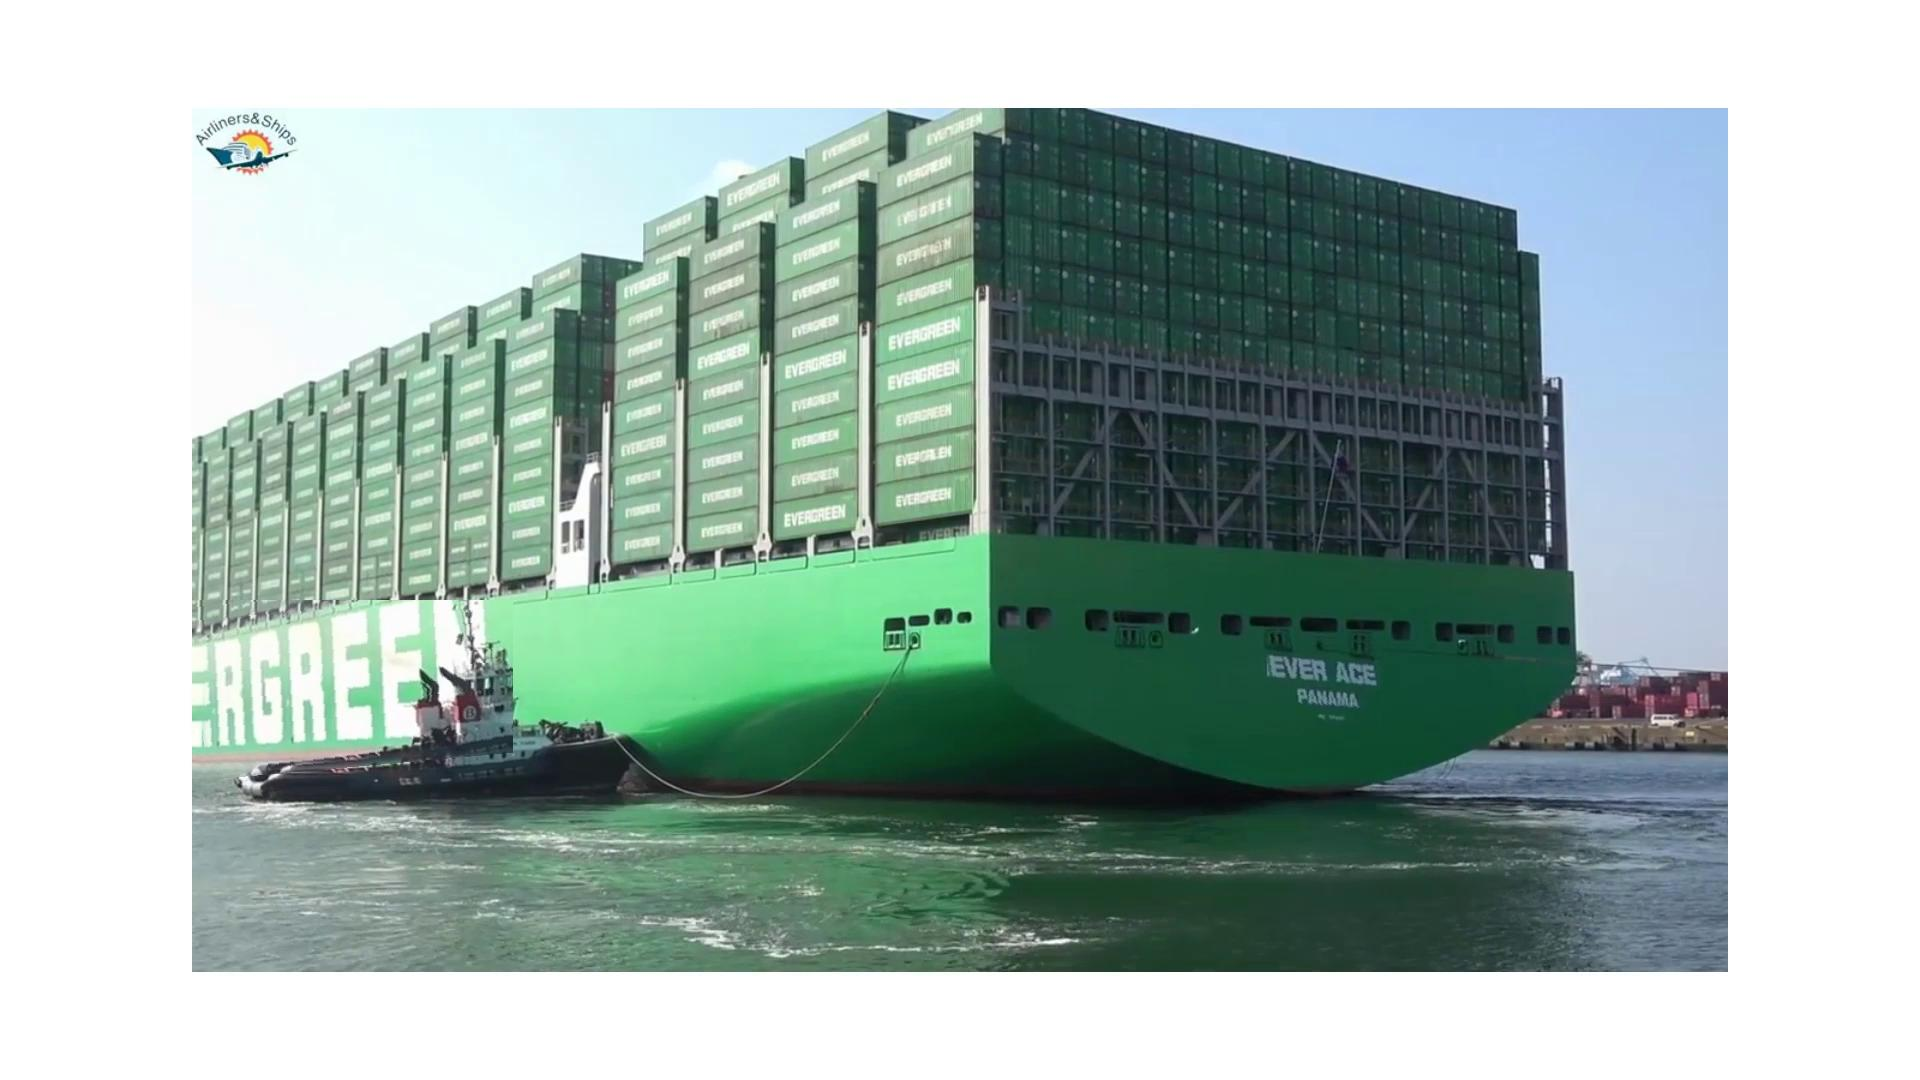OCR: (194, 600, 513, 781), (1263, 633, 1382, 737)
